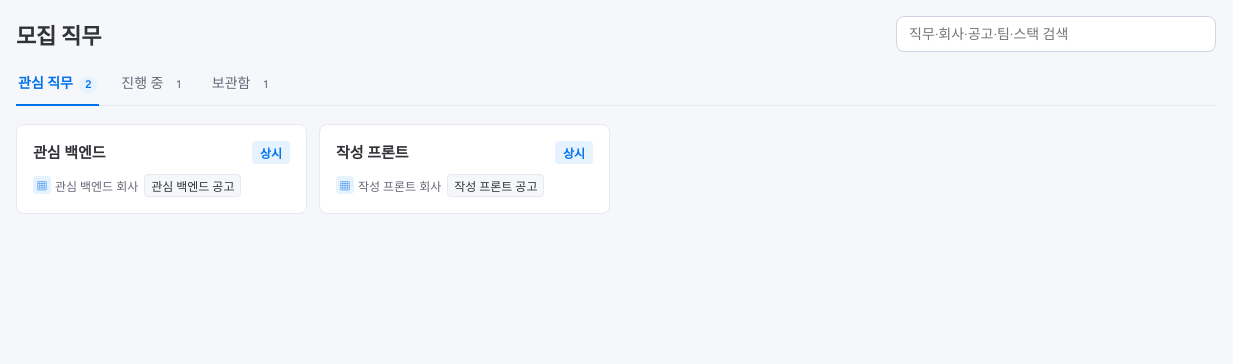
Test: PositionBoard › 부모 공고 상태로 탭을 나누고 현재 탭 안에서만 검색한다
Expected: the elements with class "card__title" read "관심 백엔드", "작성 프론트", in this order, [33, 140, 106, 162]; [336, 140, 409, 162]
Click the tab "진행 중 1" at [155, 89], box [119, 72, 190, 106]
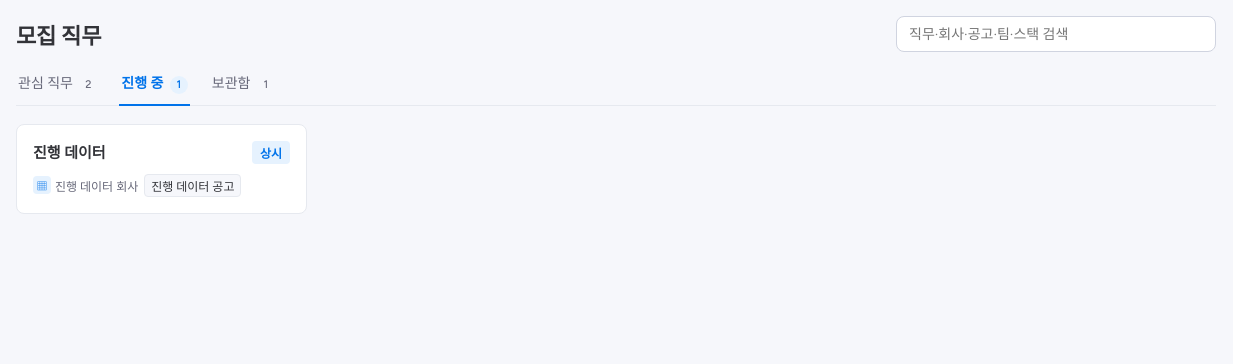
Now the elements with class "card__title" read "진행 데이터", in this order, box [33, 140, 106, 162]
Type "보관" into the search field with placeholder "직무·회사·공고·팀·스택 검색" at [1056, 34], box [896, 16, 1216, 52]
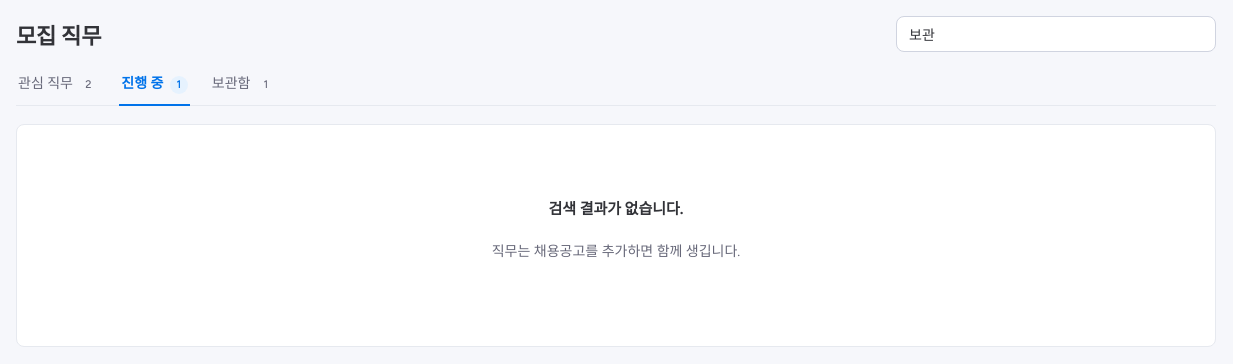
Now the text "검색 결과가 없습니다." is shown, box [548, 196, 684, 218]
Click the tab "보관함 1" at [243, 89], box [210, 72, 277, 106]
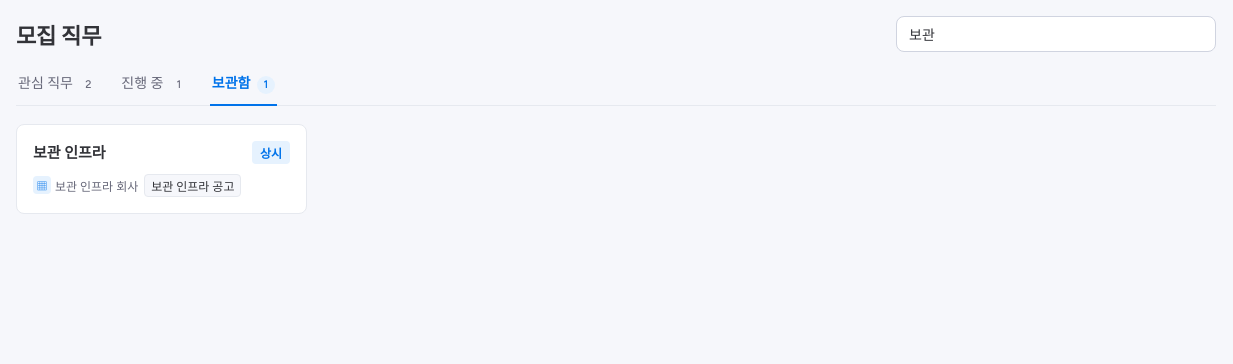
Now the elements with class "card__title" read "보관 인프라", in this order, box [33, 140, 106, 162]
